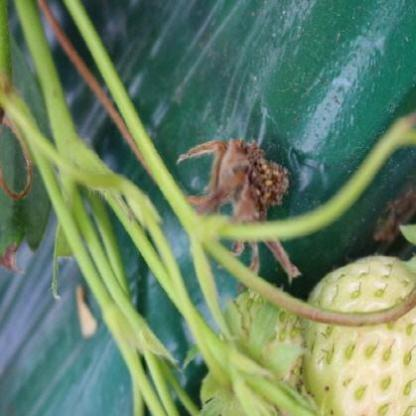Strawberry_Gray_Mold: (176, 136, 300, 284)
